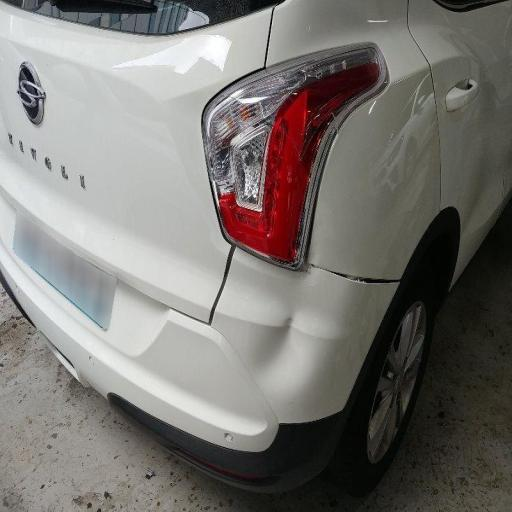dent: (226, 276, 345, 414)
scratch: (193, 60, 345, 243), (377, 56, 489, 223)
